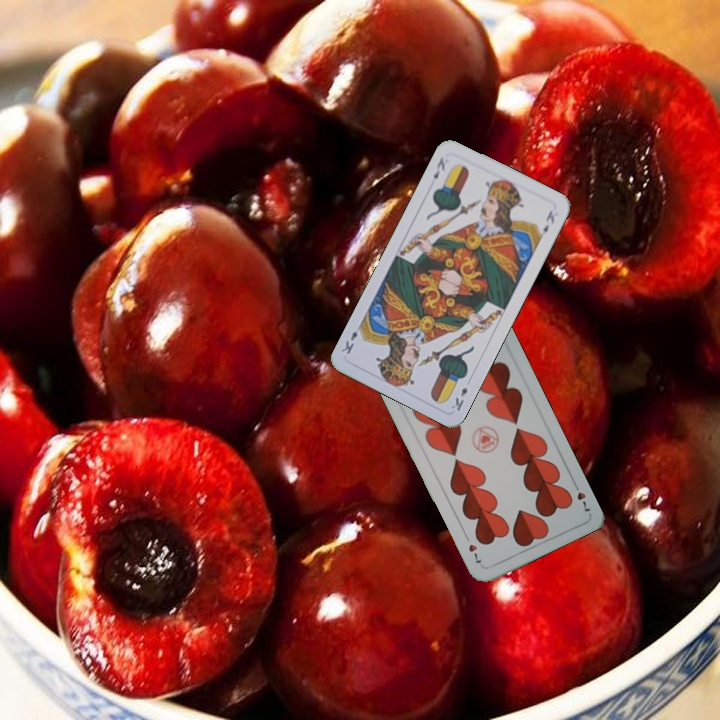EK: (447, 382, 470, 414), (429, 153, 448, 182)
H7: (569, 478, 593, 514)
